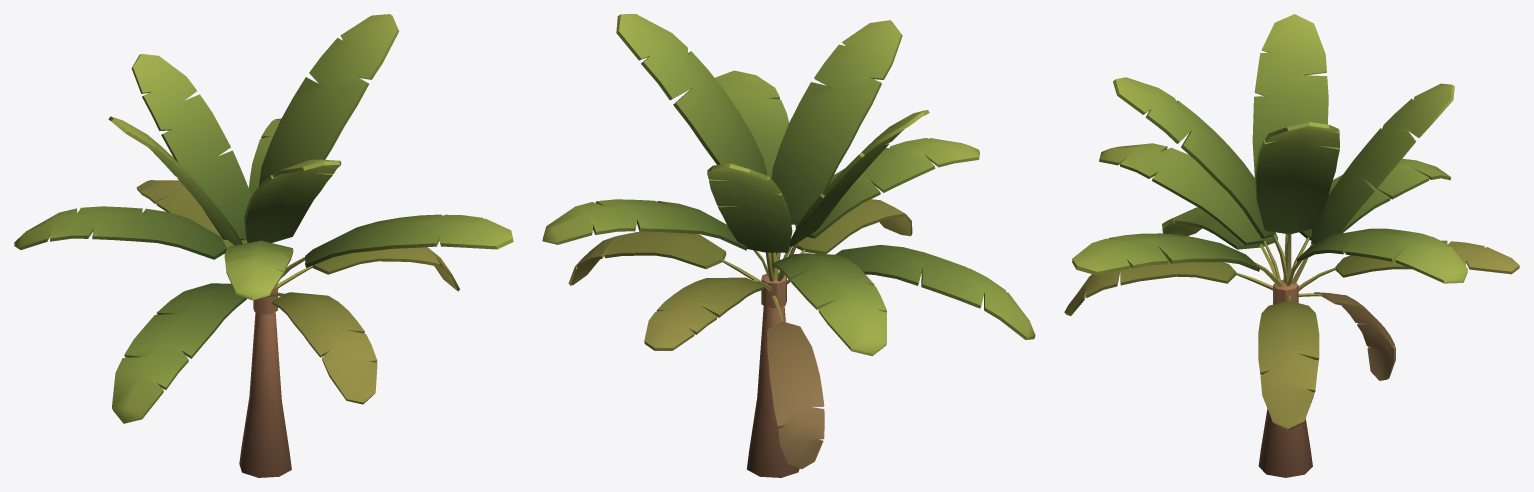
File: BananaTree_03.fbx
3 views of the same model, side by side, from view 1: azimuth 30°, elevation 25°; view 2: azimuth 150°, elevation 25°; view 3: azimuth 270°, elevation 25° (orthographic). The views are drawn at different scales.
Visible parts, largest first — view 1: BananaTree_03_LOD0; view 2: BananaTree_03_LOD0; view 3: BananaTree_03_LOD0.
Boxes of the visible parts, x1,y1,x2,y2 form: BananaTree_03_LOD0: [14, 14, 513, 477]; BananaTree_03_LOD0: [542, 14, 1035, 477]; BananaTree_03_LOD0: [1064, 14, 1519, 477].
Size of what is drawn, in the model's own units: 2.07 by 2.08 by 2.09.
